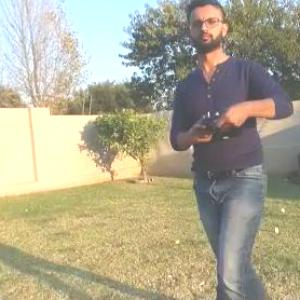follow: (167, 0, 300, 299)
